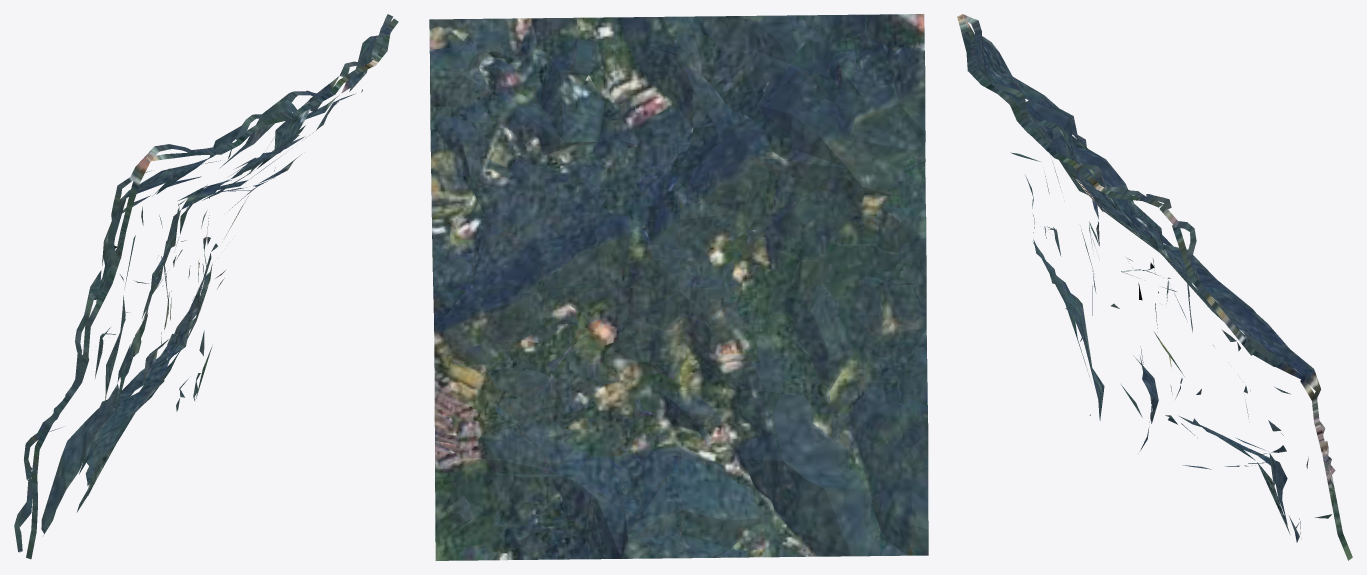
The picture shows the model from 3 angles, left to right: view 1: azimuth 30°, elevation 25°; view 2: azimuth 150°, elevation 25°; view 3: azimuth 270°, elevation 25°; orthographic projection. The views are drawn at different scales.
Size of the model in its own units: 1204 by 1194 by 971.
2 materials, 2 textured.
